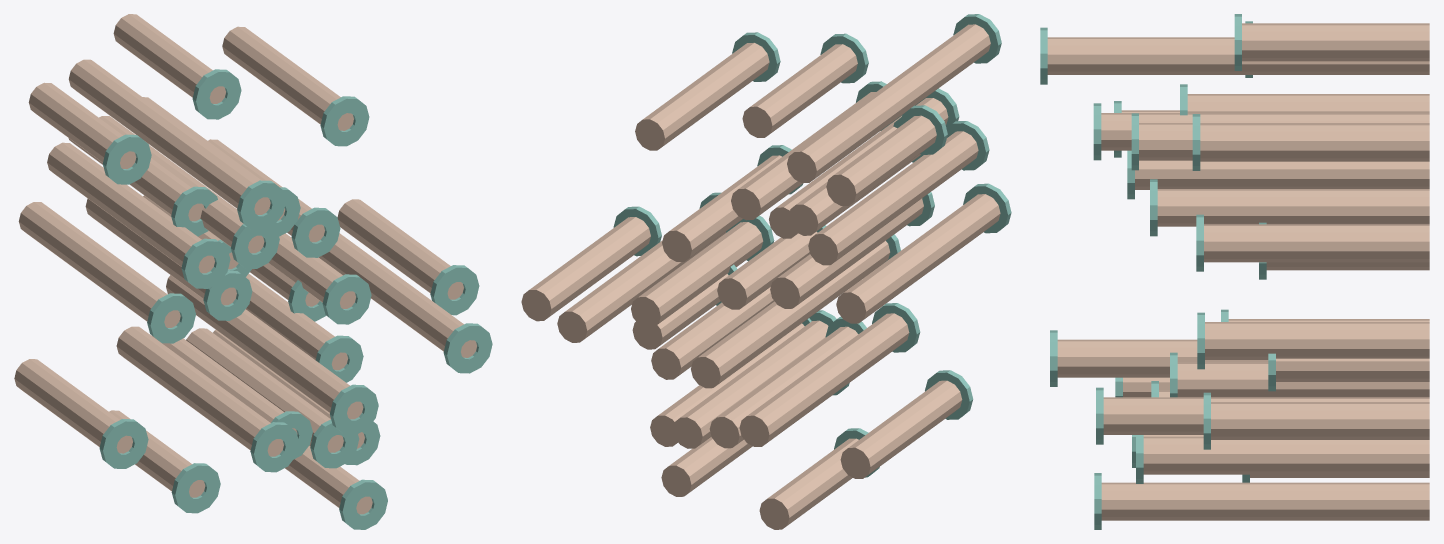
File: Aquarion_Tube_Sponge_Garden.glb
The picture shows the model from 3 angles, left to right: view 1: azimuth 30°, elevation 25°; view 2: azimuth 150°, elevation 25°; view 3: azimuth 270°, elevation 25°; orthographic projection. The views are drawn at different scales.
Visible parts, largest first — view 1: Aquarion_Tube_Sponge_Garden_tube4, Aquarion_Tube_Sponge_Garden_tube9, Aquarion_Tube_Sponge_Garden_tube0, Aquarion_Tube_Sponge_Garden_tube21, Aquarion_Tube_Sponge_Garden_tube12, Aquarion_Tube_Sponge_Garden_tube5, Aquarion_Tube_Sponge_Garden_tube2, Aquarion_Tube_Sponge_Garden_tube18, Aquarion_Tube_Sponge_Garden_tube24, Aquarion_Tube_Sponge_Garden_tube17, Aquarion_Tube_Sponge_Garden_tube14, Aquarion_Tube_Sponge_Garden_tube7 (+36 smaller); view 2: Aquarion_Tube_Sponge_Garden_tube4, Aquarion_Tube_Sponge_Garden_tube9, Aquarion_Tube_Sponge_Garden_tube0, Aquarion_Tube_Sponge_Garden_tube21, Aquarion_Tube_Sponge_Garden_tube12, Aquarion_Tube_Sponge_Garden_tube2, Aquarion_Tube_Sponge_Garden_tube18, Aquarion_Tube_Sponge_Garden_tube19, Aquarion_Tube_Sponge_Garden_tube24, Aquarion_Tube_Sponge_Garden_tube5, Aquarion_Tube_Sponge_Garden_tube14, Aquarion_Tube_Sponge_Garden_tube17 (+22 smaller); view 3: Aquarion_Tube_Sponge_Garden_tube20, Aquarion_Tube_Sponge_Garden_tube10, Aquarion_Tube_Sponge_Garden_tube22, Aquarion_Tube_Sponge_Garden_tube4, Aquarion_Tube_Sponge_Garden_tube2, Aquarion_Tube_Sponge_Garden_tube13, Aquarion_Tube_Sponge_Garden_tube19, Aquarion_Tube_Sponge_Garden_tube18, Aquarion_Tube_Sponge_Garden_tube21, Aquarion_Tube_Sponge_Garden_tube17, Aquarion_Tube_Sponge_Garden_tube23, Aquarion_Tube_Sponge_Garden_tube12 (+21 smaller).
Part boxes in pixels (left/top/right/bottom): Aquarion_Tube_Sponge_Garden_tube4: left=68, top=59, right=270, bottom=214; Aquarion_Tube_Sponge_Garden_tube9: left=116, top=326, right=283, bottom=456; Aquarion_Tube_Sponge_Garden_tube0: left=47, top=142, right=214, bottom=273; Aquarion_Tube_Sponge_Garden_tube21: left=18, top=202, right=180, bottom=327; Aquarion_Tube_Sponge_Garden_tube12: left=166, top=275, right=363, bottom=419; Aquarion_Tube_Sponge_Garden_tube5: left=319, top=233, right=476, bottom=357; Aquarion_Tube_Sponge_Garden_tube2: left=222, top=26, right=353, bottom=130; Aquarion_Tube_Sponge_Garden_tube18: left=337, top=199, right=463, bottom=299; Aquarion_Tube_Sponge_Garden_tube24: left=14, top=359, right=132, bottom=453; Aquarion_Tube_Sponge_Garden_tube17: left=113, top=14, right=225, bottom=103; Aquarion_Tube_Sponge_Garden_tube14: left=186, top=328, right=343, bottom=452; Aquarion_Tube_Sponge_Garden_tube7: left=28, top=82, right=136, bottom=169; Aquarion_Tube_Sponge_Garden_tube4: left=787, top=24, right=990, bottom=183; Aquarion_Tube_Sponge_Garden_tube9: left=739, top=313, right=909, bottom=446; Aquarion_Tube_Sponge_Garden_tube0: left=808, top=131, right=978, bottom=265; Aquarion_Tube_Sponge_Garden_tube21: left=836, top=194, right=1000, bottom=323; Aquarion_Tube_Sponge_Garden_tube12: left=691, top=240, right=890, bottom=388; Aquarion_Tube_Sponge_Garden_tube2: left=635, top=42, right=769, bottom=150; Aquarion_Tube_Sponge_Garden_tube18: left=521, top=217, right=650, bottom=321; Aquarion_Tube_Sponge_Garden_tube19: left=631, top=222, right=763, bottom=327; Aquarion_Tube_Sponge_Garden_tube24: left=840, top=380, right=962, bottom=478; Aquarion_Tube_Sponge_Garden_tube5: left=557, top=232, right=725, bottom=342; Aquarion_Tube_Sponge_Garden_tube14: left=673, top=320, right=828, bottom=448; Aquarion_Tube_Sponge_Garden_tube17: left=742, top=44, right=857, bottom=137; Aquarion_Tube_Sponge_Garden_tube20: left=1101, top=482, right=1429, bottom=520; Aquarion_Tube_Sponge_Garden_tube10: left=1143, top=436, right=1429, bottom=474; Aquarion_Tube_Sponge_Garden_tube22: left=1157, top=189, right=1429, bottom=226; Aquarion_Tube_Sponge_Garden_tube4: left=1047, top=37, right=1429, bottom=74; Aquarion_Tube_Sponge_Garden_tube2: left=1200, top=123, right=1429, bottom=161; Aquarion_Tube_Sponge_Garden_tube13: left=1204, top=224, right=1429, bottom=262; Aquarion_Tube_Sponge_Garden_tube19: left=1205, top=322, right=1429, bottom=359; Aquarion_Tube_Sponge_Garden_tube18: left=1211, top=402, right=1429, bottom=439; Aquarion_Tube_Sponge_Garden_tube21: left=1135, top=160, right=1429, bottom=189; Aquarion_Tube_Sponge_Garden_tube17: left=1242, top=23, right=1429, bottom=61; Aquarion_Tube_Sponge_Garden_tube23: left=1177, top=362, right=1429, bottom=397; Aquarion_Tube_Sponge_Garden_tube12: left=1057, top=339, right=1268, bottom=377.
Size of the model in its own units: 1.21 by 1.38 by 1.02.
